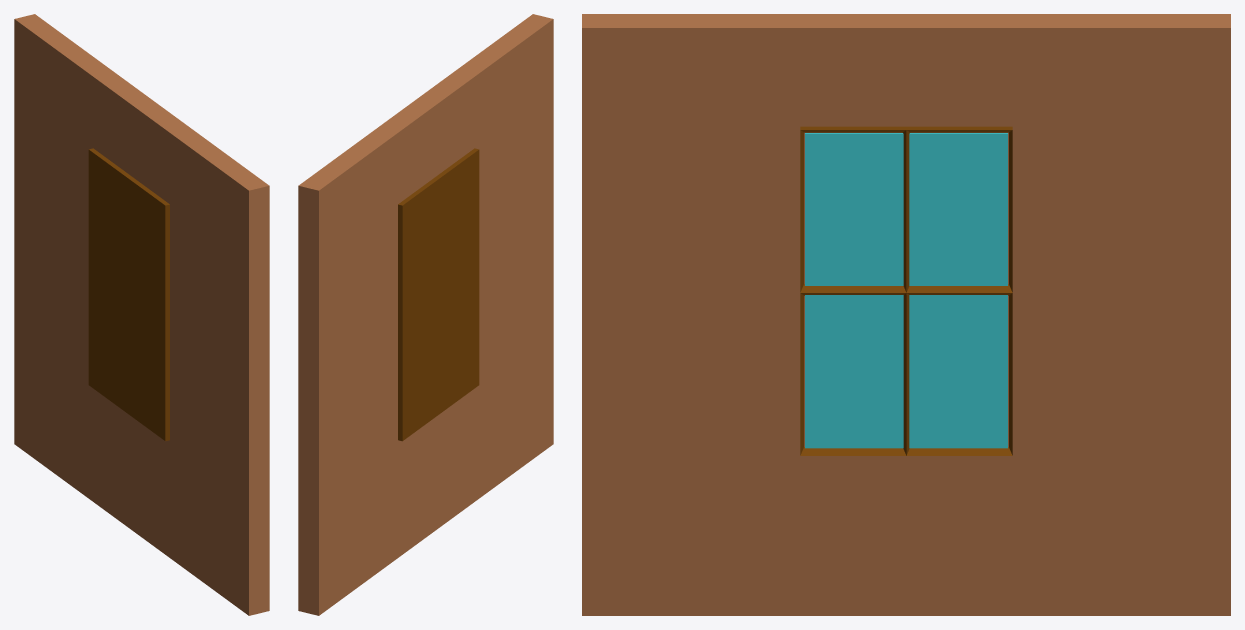
Rendered from window 1.fbx.
3 renders of one model, left to right at view 1: azimuth 30°, elevation 25°; view 2: azimuth 150°, elevation 25°; view 3: azimuth 270°, elevation 25°, orthographic. The views are drawn at different scales.
Visible parts, largest first — view 1: Cube.001, Cube.002; view 2: Cube.001, Cube.002; view 3: Cube.001, Cube.003, Cube.002.
Boxes of the visible parts, box(x1,y1,x2,y2) form: Cube.001: box(14, 14, 269, 615); Cube.002: box(88, 148, 169, 441); Cube.001: box(298, 14, 553, 615); Cube.002: box(398, 148, 479, 441); Cube.001: box(582, 14, 1230, 615); Cube.003: box(805, 133, 1007, 448); Cube.002: box(800, 126, 1012, 455).
Bounding box in the file's own units: 14.64 × 200 × 200.
